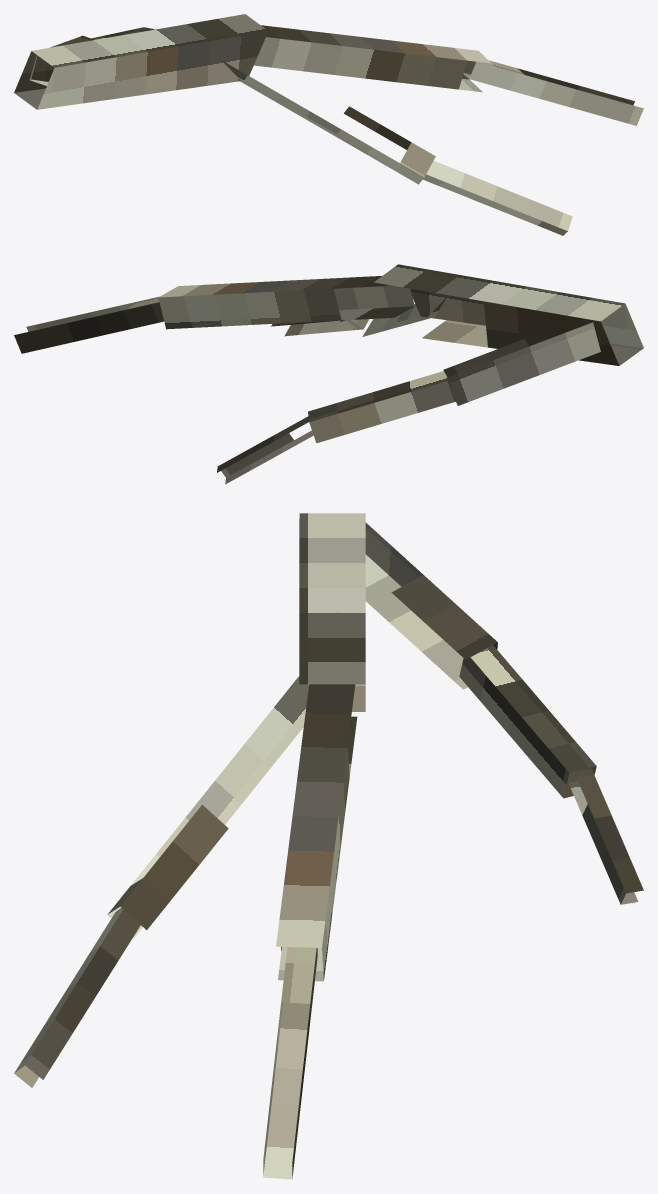
File: birch_twig_branch_down.obj
The picture shows the model from 3 angles, top to bottom: view 1: azimuth 30°, elevation 25°; view 2: azimuth 150°, elevation 25°; view 3: azimuth 270°, elevation 25°; orthographic projection. The views are drawn at different scales.
Visible parts, largest first — view 1: cube; view 2: cube; view 3: cube.
Boxes of the visible parts, x1=… form: cube: x1=14, y1=14, x2=643, y2=235; cube: x1=14, y1=264, x2=643, y2=484; cube: x1=14, y1=513, x2=643, y2=1179.
Bounding box in the file's own units: 2.39 × 0.7689 × 1.53.
